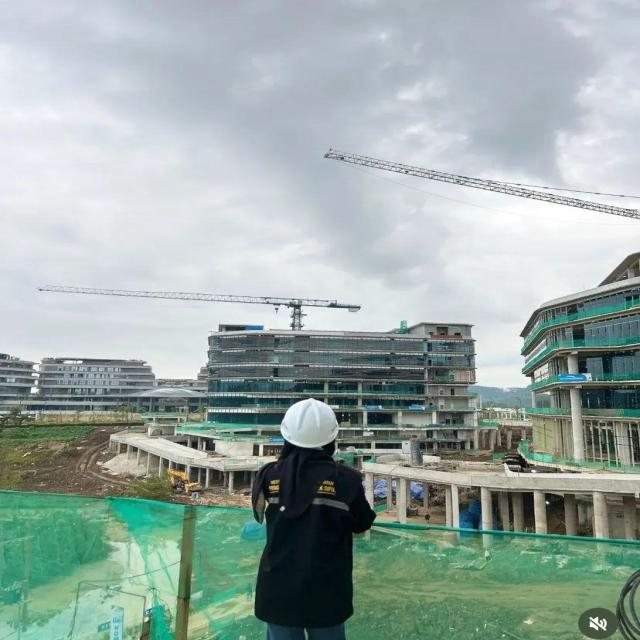safetyhelmet: (277, 394, 346, 464)
